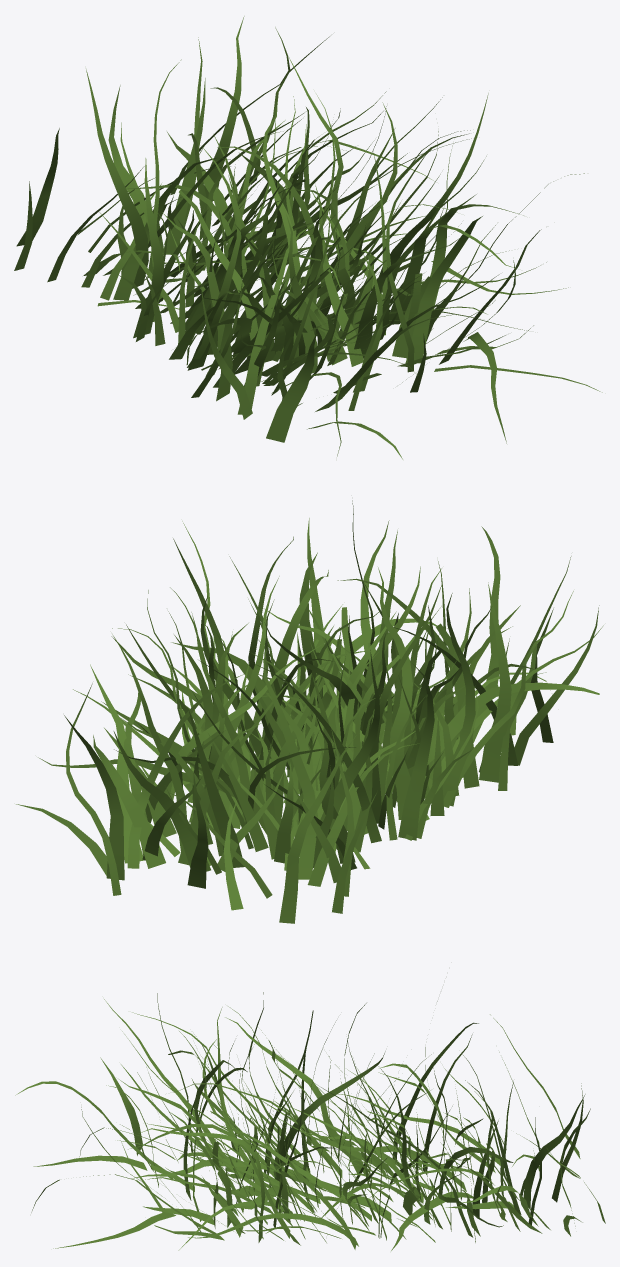
The model's file is plant_swamp_grass_short_flat_needled_D.fbx.
The picture shows the model from 3 angles, top to bottom: view 1: azimuth 30°, elevation 25°; view 2: azimuth 150°, elevation 25°; view 3: azimuth 270°, elevation 25°; orthographic projection. The views are drawn at different scales.
Visible parts, largest first — view 1: plant_swamp_grass_short_flat_needled_D; view 2: plant_swamp_grass_short_flat_needled_D; view 3: plant_swamp_grass_short_flat_needled_D.
Boxes of the visible parts, box(x1,y1,x2,y2) form: plant_swamp_grass_short_flat_needled_D: box(14, 16, 602, 459); plant_swamp_grass_short_flat_needled_D: box(16, 500, 603, 923); plant_swamp_grass_short_flat_needled_D: box(15, 992, 605, 1250).
Size of the model in its own units: 377 by 204 by 540.
